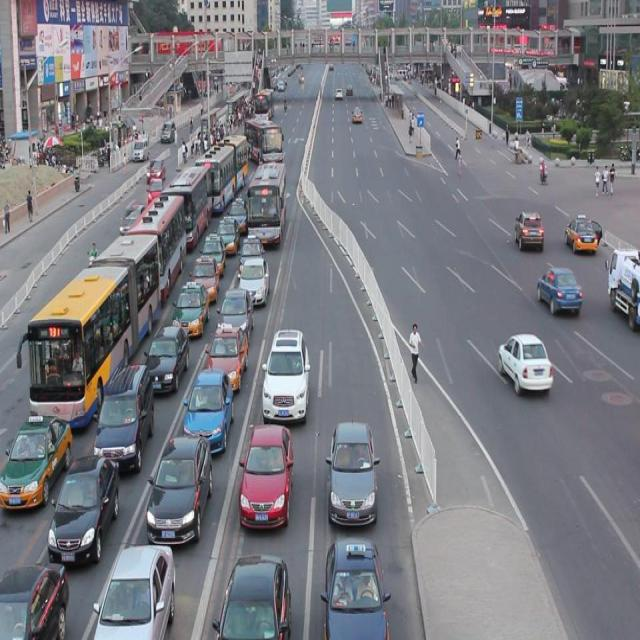bus: (603, 246, 640, 328)
car: (94, 538, 175, 640), (48, 452, 120, 554), (321, 535, 389, 640), (148, 428, 213, 536), (214, 551, 290, 640), (0, 411, 70, 503), (94, 358, 154, 461), (0, 554, 68, 640), (327, 417, 380, 517), (240, 422, 294, 517), (262, 325, 310, 415), (185, 364, 233, 442), (496, 332, 550, 396), (146, 317, 189, 386), (205, 320, 248, 384), (218, 284, 254, 339), (174, 278, 210, 330), (563, 212, 600, 254), (241, 252, 270, 298), (190, 250, 220, 294), (513, 210, 543, 250), (200, 229, 226, 269), (240, 228, 263, 270), (118, 205, 145, 236), (216, 210, 239, 246), (227, 191, 250, 226), (146, 158, 166, 184), (147, 180, 165, 204), (535, 263, 545, 274)
van: (16, 230, 160, 421), (123, 187, 186, 296), (197, 125, 247, 203), (245, 161, 287, 247), (168, 158, 208, 241), (244, 117, 283, 165)
